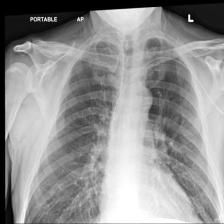normal: (19, 35, 224, 224)
